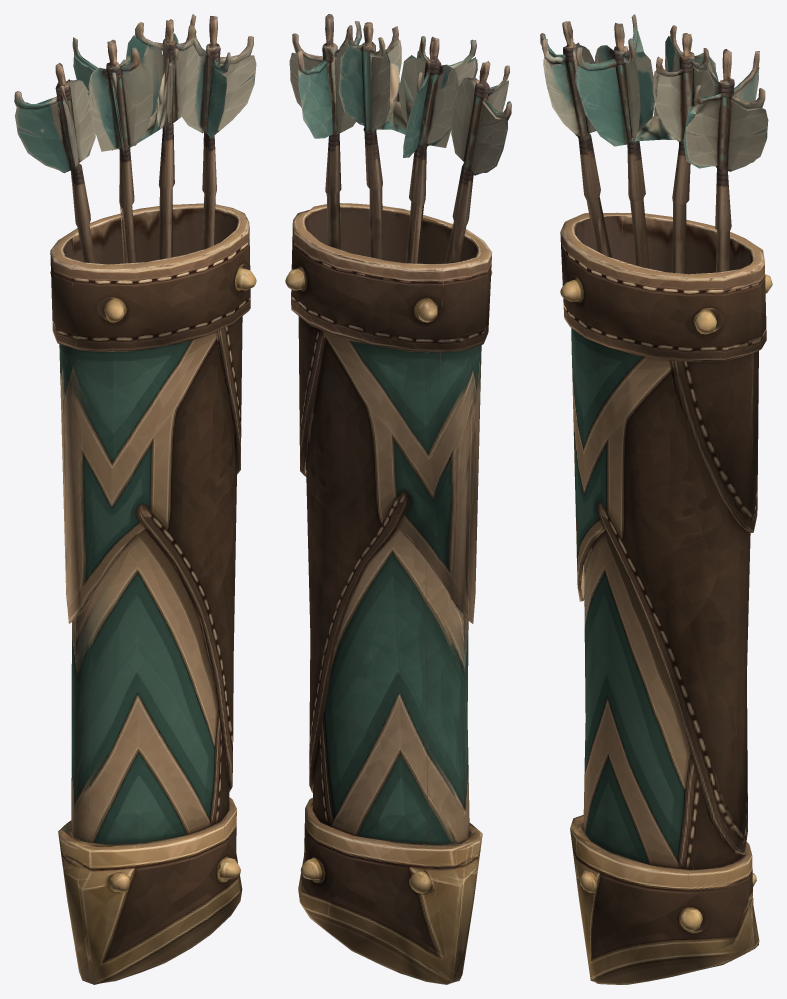
The model's file is hero_batrafian_ranger_quiver.glb.
The picture shows the model from 3 angles, left to right: view 1: azimuth 30°, elevation 25°; view 2: azimuth 150°, elevation 25°; view 3: azimuth 330°, elevation 25°; orthographic projection. The views are drawn at different scales.
Bounding box in the file's own units: 0.2588 × 1 × 0.1304.
Materials: 1 (1 with a texture image).
